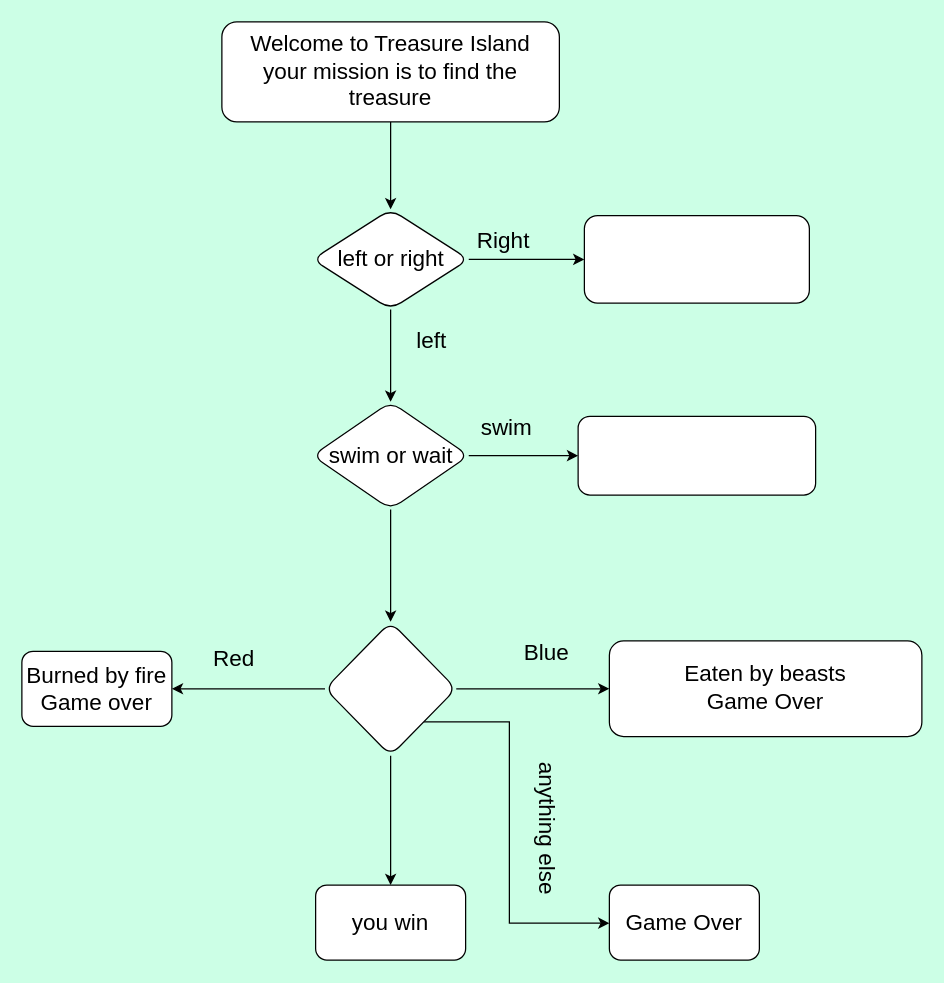
The diagram is 944 pixels wide and 983 high, and some of its shapes have lost their labels. The centre of each missing label's shape, as x and y in pixels:
"Attacked by trout Game Over" goes at pixel 696 455.
"fall into a hole Game over" goes at pixel 696 258.
"Which door" goes at pixel 390 688.
